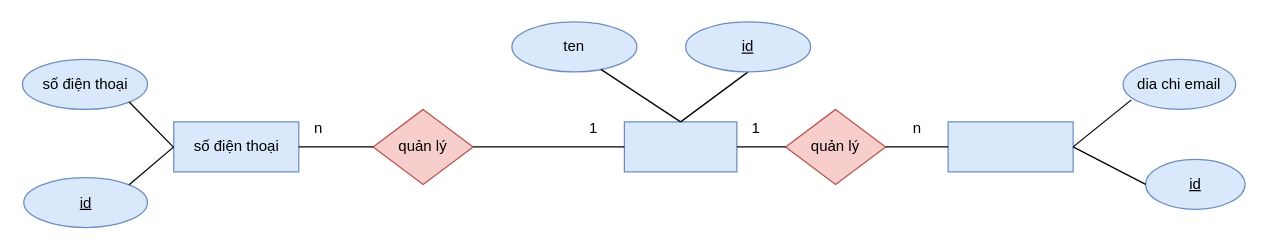
Some shapes in this 1266 by 250 pixel diagram are drawn without their labels. The shapes that lost their labels are listed below. From the top down, each one's centre as x and y in pixels, then its label:
At pixel 680 146: "người".
At pixel 1010 146: "email".
